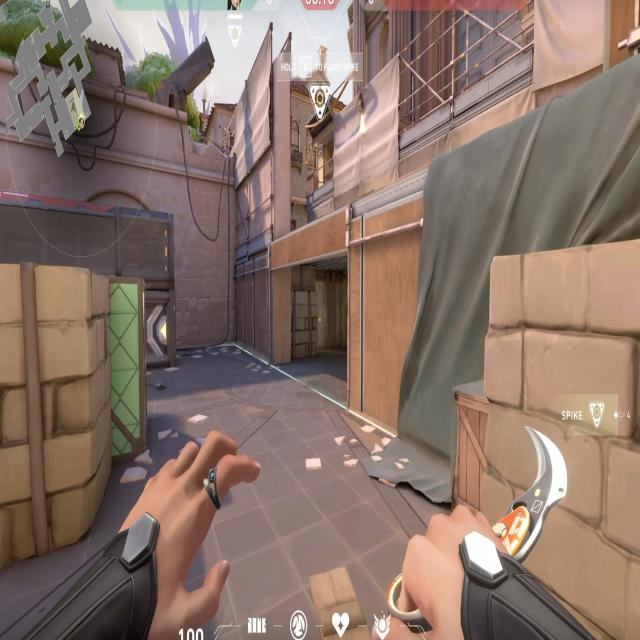A_Heaven_Wall: (232, 41, 291, 241)
A_Hell: (264, 230, 370, 404)
A_Site_Box: (0, 280, 147, 527)
